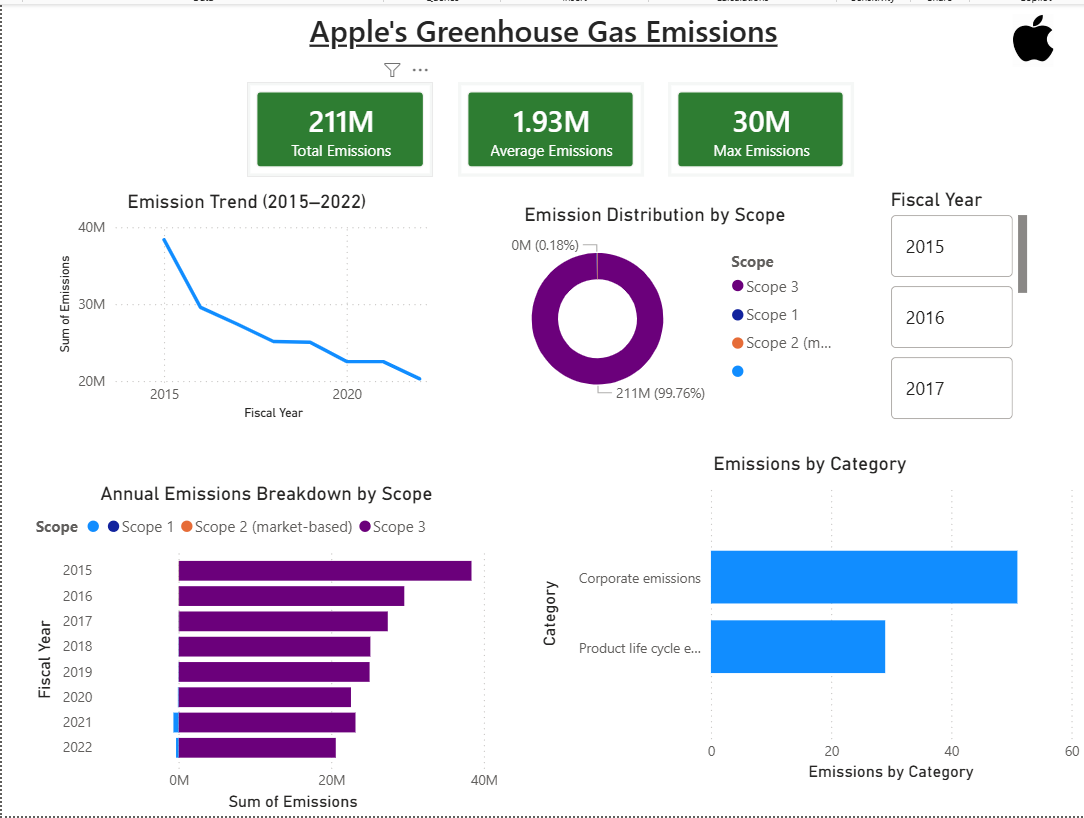

Layout of this report page (visuals, bound fields, positions):
{"tool":"powerbi","page":{"name":"Overview","canvas":[960,720],"ordinal":0},"visuals":[{"type":"textbox","box":[256.1,0,447.8,65.6],"z":0},{"type":"image","box":[868.1,8.9,92.2,47],"z":1000},{"type":"cardVisual","fields":{"Data":["Sum(greenhouse_gas_emissions.Emissions)"]},"box":[217.2,69.2,165,84],"z":2000},{"type":"cardVisual","fields":{"Data":["carbon_footprint_by_product.Measure"]},"box":[590.8,69.2,164.9,84.2],"z":3000},{"type":"lineChart","title":"Emission Trend (2015–2022)","fields":{"Category":["greenhouse_gas_emissions.Fiscal Year"],"Y":["Sum(greenhouse_gas_emissions.Emissions)"]},"box":[45.2,164.9,343.2,208.4],"z":4001},{"type":"donutChart","title":"Emission Distribution by Scope","fields":{"Category":["greenhouse_gas_emissions.Scope"],"Y":["Sum(greenhouse_gas_emissions.Emissions)"]},"box":[404.3,176.5,349.4,186.2],"z":4002},{"type":"barChart","title":"Annual Emissions Breakdown by Scope","fields":{"Series":["greenhouse_gas_emissions.Scope"],"Category":["normalizing_factors.Fiscal Year"],"Y":["Sum(greenhouse_gas_emissions.Emissions)"]},"box":[24.8,423.8,419.4,296.2],"z":4003},{"type":"cardVisual","fields":{"Data":["carbon_footprint_by_product.Measure Average Emissions"]},"box":[404.1,69.2,164.9,84.2],"z":4004},{"type":"advancedSlicerVisual","fields":{"Values":["normalizing_factors.Fiscal Year"]},"box":[783,163.2,131.2,212.8],"z":4005},{"type":"clusteredBarChart","title":"Emissions by Category","fields":{"Y":["Count(greenhouse_gas_emissions.Emissions)"],"Category":["greenhouse_gas_emissions.Category"]},"box":[472.6,397.2,487.7,296.2],"z":4006}]}

Visuals, with their boxes on the page's 960x720 design canvas (x1, y1, x2, y2). These are canvas units, not pixel positions in the 1084x818 screenshot, which may show the page scaled, cropped or inside an application window:
textbox: rect(256, 0, 704, 66)
image: rect(868, 9, 960, 56)
cardVisual - Sum(greenhouse_gas_emissions.Emissions): rect(217, 69, 382, 153)
cardVisual - carbon_footprint_by_product.Measure: rect(591, 69, 756, 153)
"Emission Trend (2015–2022)" lineChart: rect(45, 165, 388, 373)
"Emission Distribution by Scope" donutChart: rect(404, 176, 754, 363)
"Annual Emissions Breakdown by Scope" barChart: rect(25, 424, 444, 720)
cardVisual - carbon_footprint_by_product.Measure Average Emissions: rect(404, 69, 569, 153)
advancedSlicerVisual - normalizing_factors.Fiscal Year: rect(783, 163, 914, 376)
"Emissions by Category" clusteredBarChart: rect(473, 397, 960, 693)
